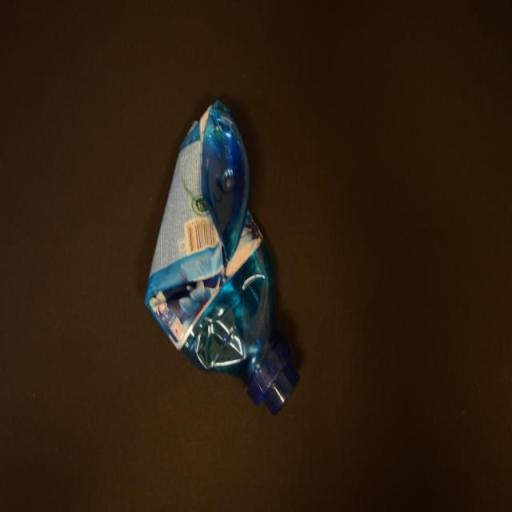plastic: (148, 104, 299, 415)
